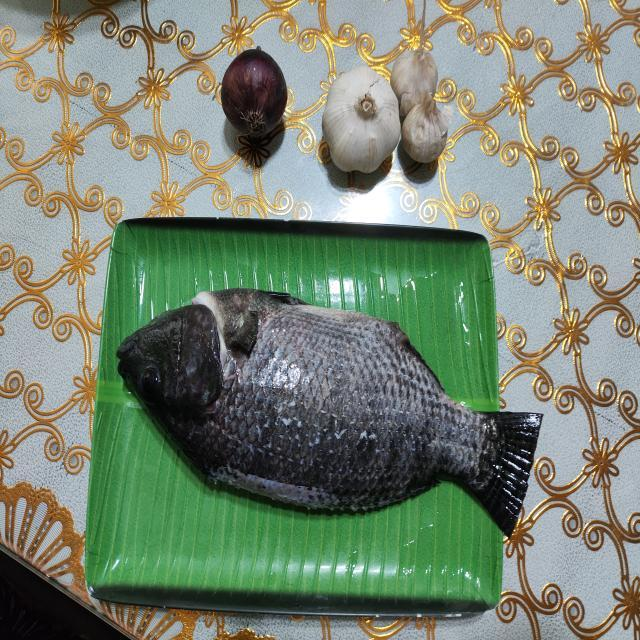fish: (118, 286, 539, 542)
garlic: (326, 44, 449, 188)
onion: (219, 44, 285, 142)
